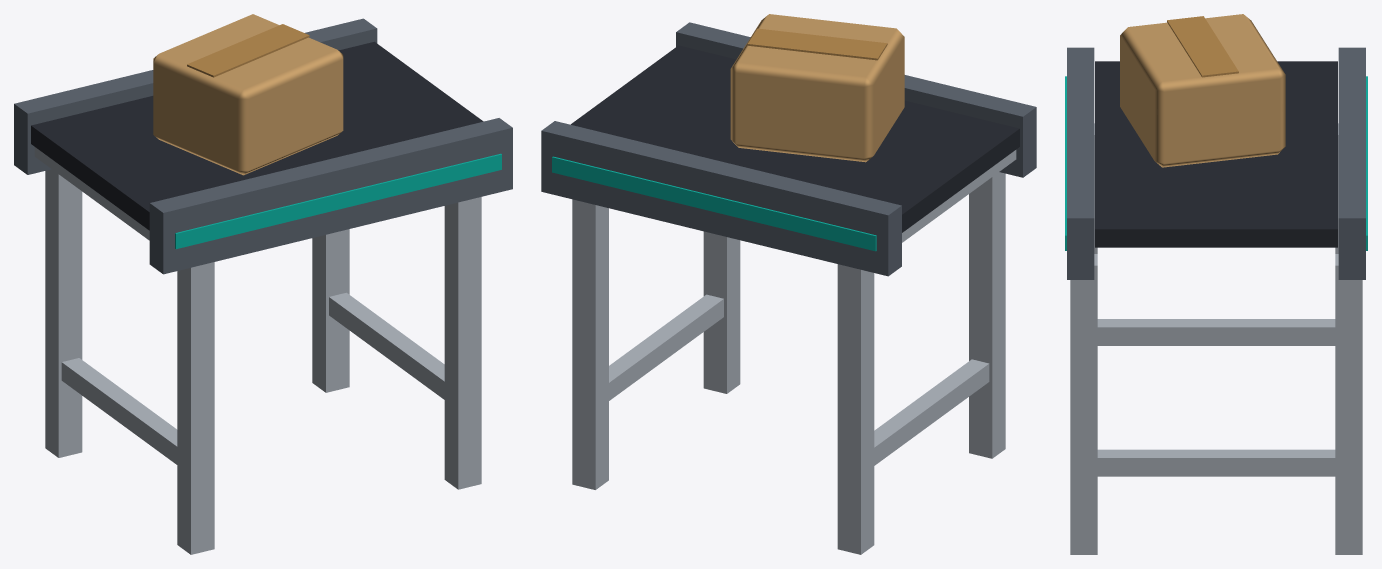
Rendered from station_transport_ausstattung_1_1.glb.
3 renders of one model, left to right at view 1: azimuth 30°, elevation 25°; view 2: azimuth 150°, elevation 25°; view 3: azimuth 270°, elevation 25°, orthographic.
Parts seen in each view (by area): view 1: station_transport_ausstattung_1_1; view 2: station_transport_ausstattung_1_1; view 3: station_transport_ausstattung_1_1.
Boxes of the visible parts, x1,y1,x2,y2 form: station_transport_ausstattung_1_1: (14,14,512,554); station_transport_ausstattung_1_1: (541,14,1036,554); station_transport_ausstattung_1_1: (1065,14,1367,554).
Size of the model in its own units: 0.595 by 0.694 by 0.446.
